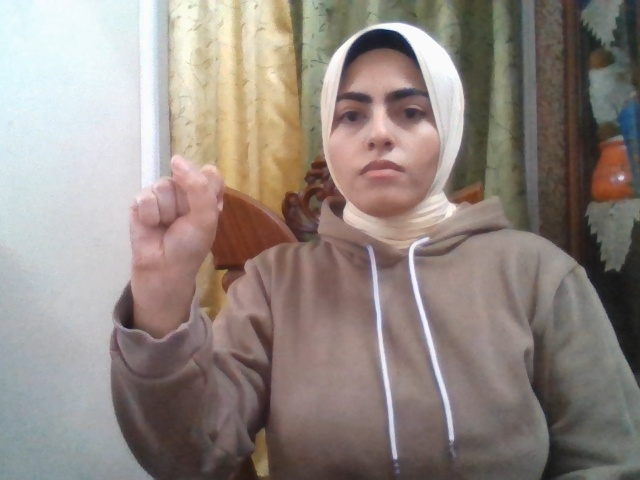S: (129, 156, 222, 272)
